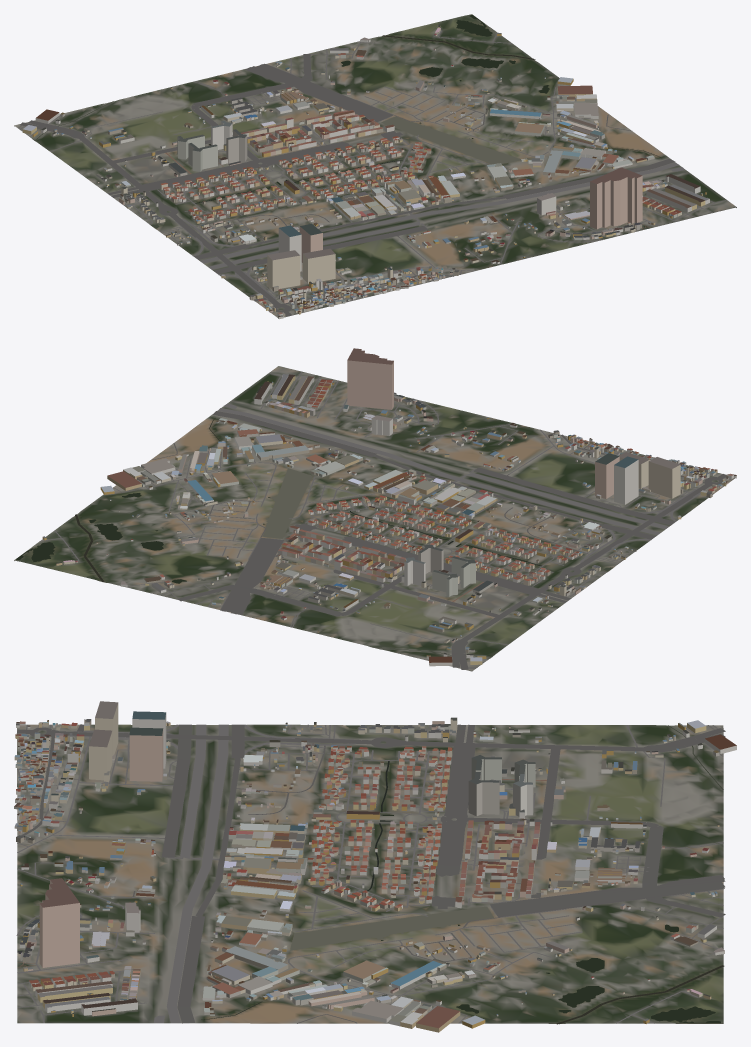
3 views of the same model, one above another, from view 1: azimuth 30°, elevation 25°; view 2: azimuth 150°, elevation 25°; view 3: azimuth 270°, elevation 25° (orthographic). The views are drawn at different scales.
Visible parts, largest first — view 1: ground, buildings, roads, water; view 2: ground, buildings, roads, water; view 3: ground, buildings, roads, water.
Boxes of the visible parts, box(x1,y1,x2,y2) form: ground: box(14, 14, 736, 317); buildings: box(22, 24, 709, 319); roads: box(18, 30, 726, 316); water: box(34, 15, 661, 228); ground: box(14, 366, 736, 671); buildings: box(42, 348, 736, 666); roads: box(39, 371, 732, 669); water: box(15, 418, 612, 657); ground: box(17, 724, 723, 1023); buildings: box(14, 701, 736, 1032); roads: box(16, 724, 725, 1023); water: box(201, 725, 724, 1024).
Bounding box in the file's own units: 1447 × 137 × 1435.
